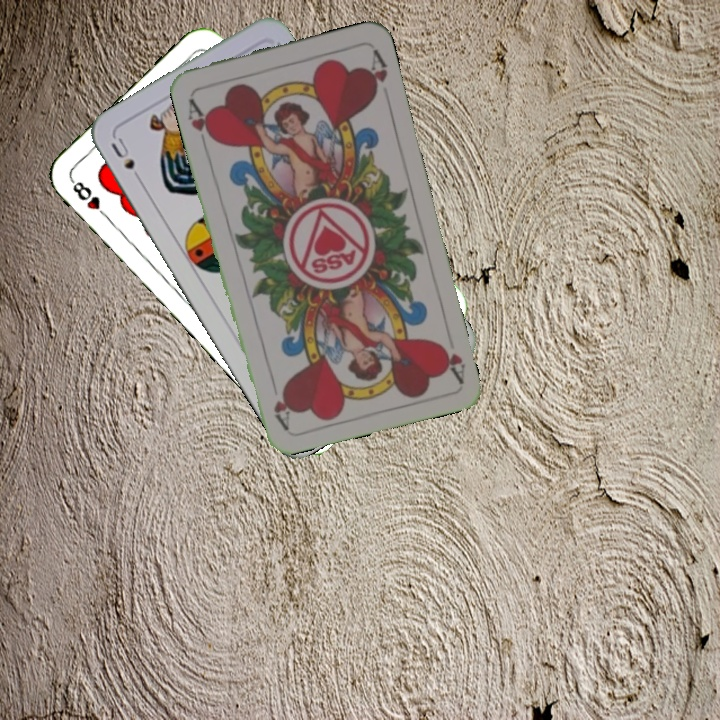H8: (66, 175, 112, 222)
HA: (184, 94, 218, 150), (434, 338, 468, 384)
SU: (107, 133, 146, 187)
